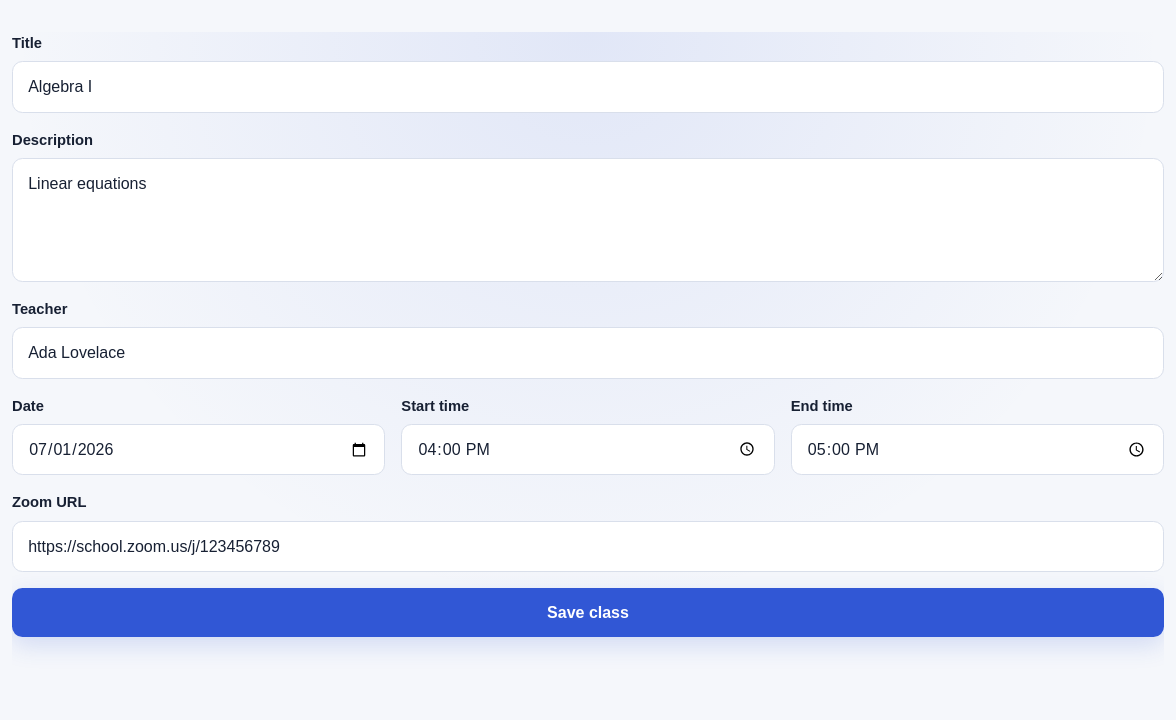
Test: ClassForm › disables the submit button while the server action is pending
Click the button "Save class". click: coordinates (588, 613)
box: left=12, top=588, right=1164, bottom=637
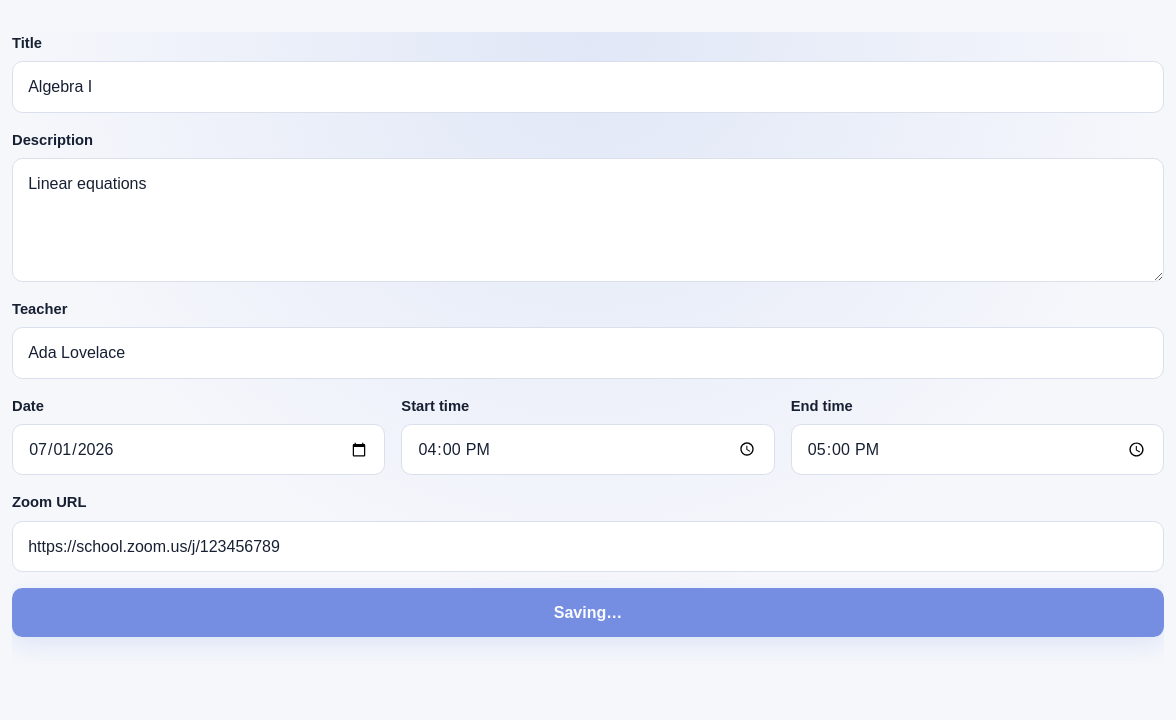
Check: the button "Saving…" is disabled, box left=12, top=588, right=1164, bottom=637
